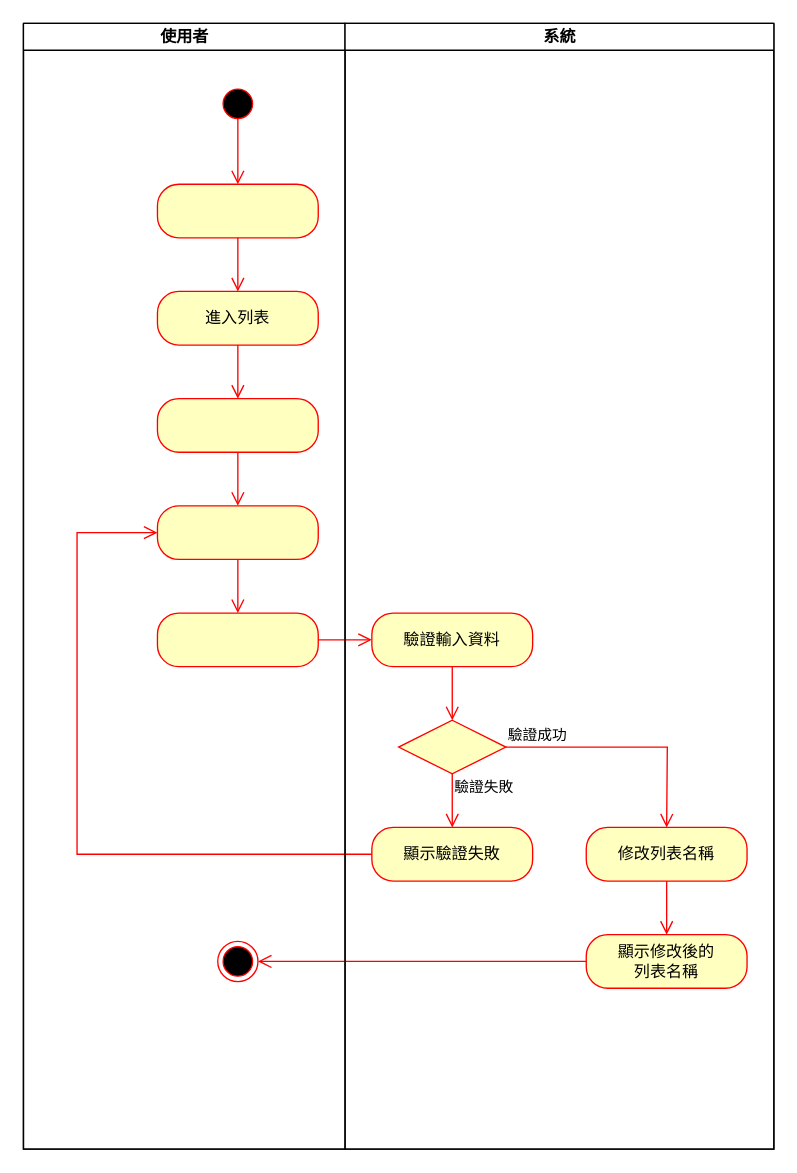
Image size: 797x1173. Some labels were removed from this diagram. Each missing label, with the box of its shape:
收藏介面: (156, 183, 318, 238)
編輯列表名稱: (156, 505, 318, 559)
點選儲存變更: (156, 612, 318, 667)
點選列表名稱: (156, 397, 318, 452)
